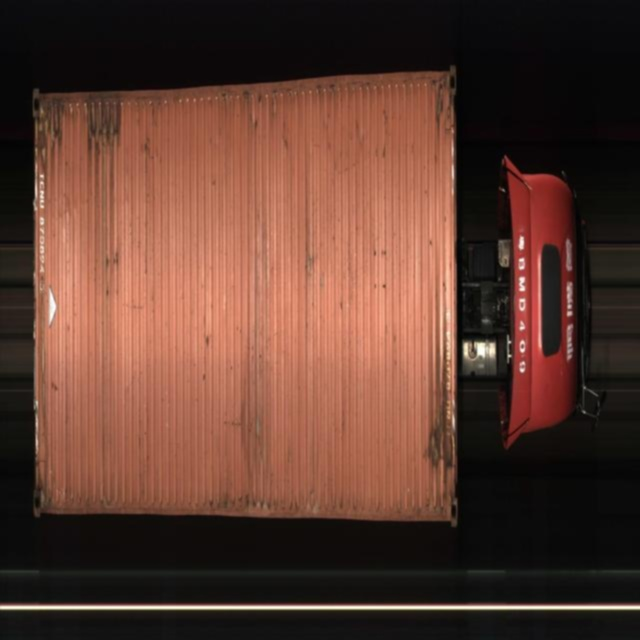Rusty: (431, 352, 454, 473), (89, 96, 123, 148), (40, 97, 64, 163), (41, 273, 47, 431), (438, 88, 445, 134)
